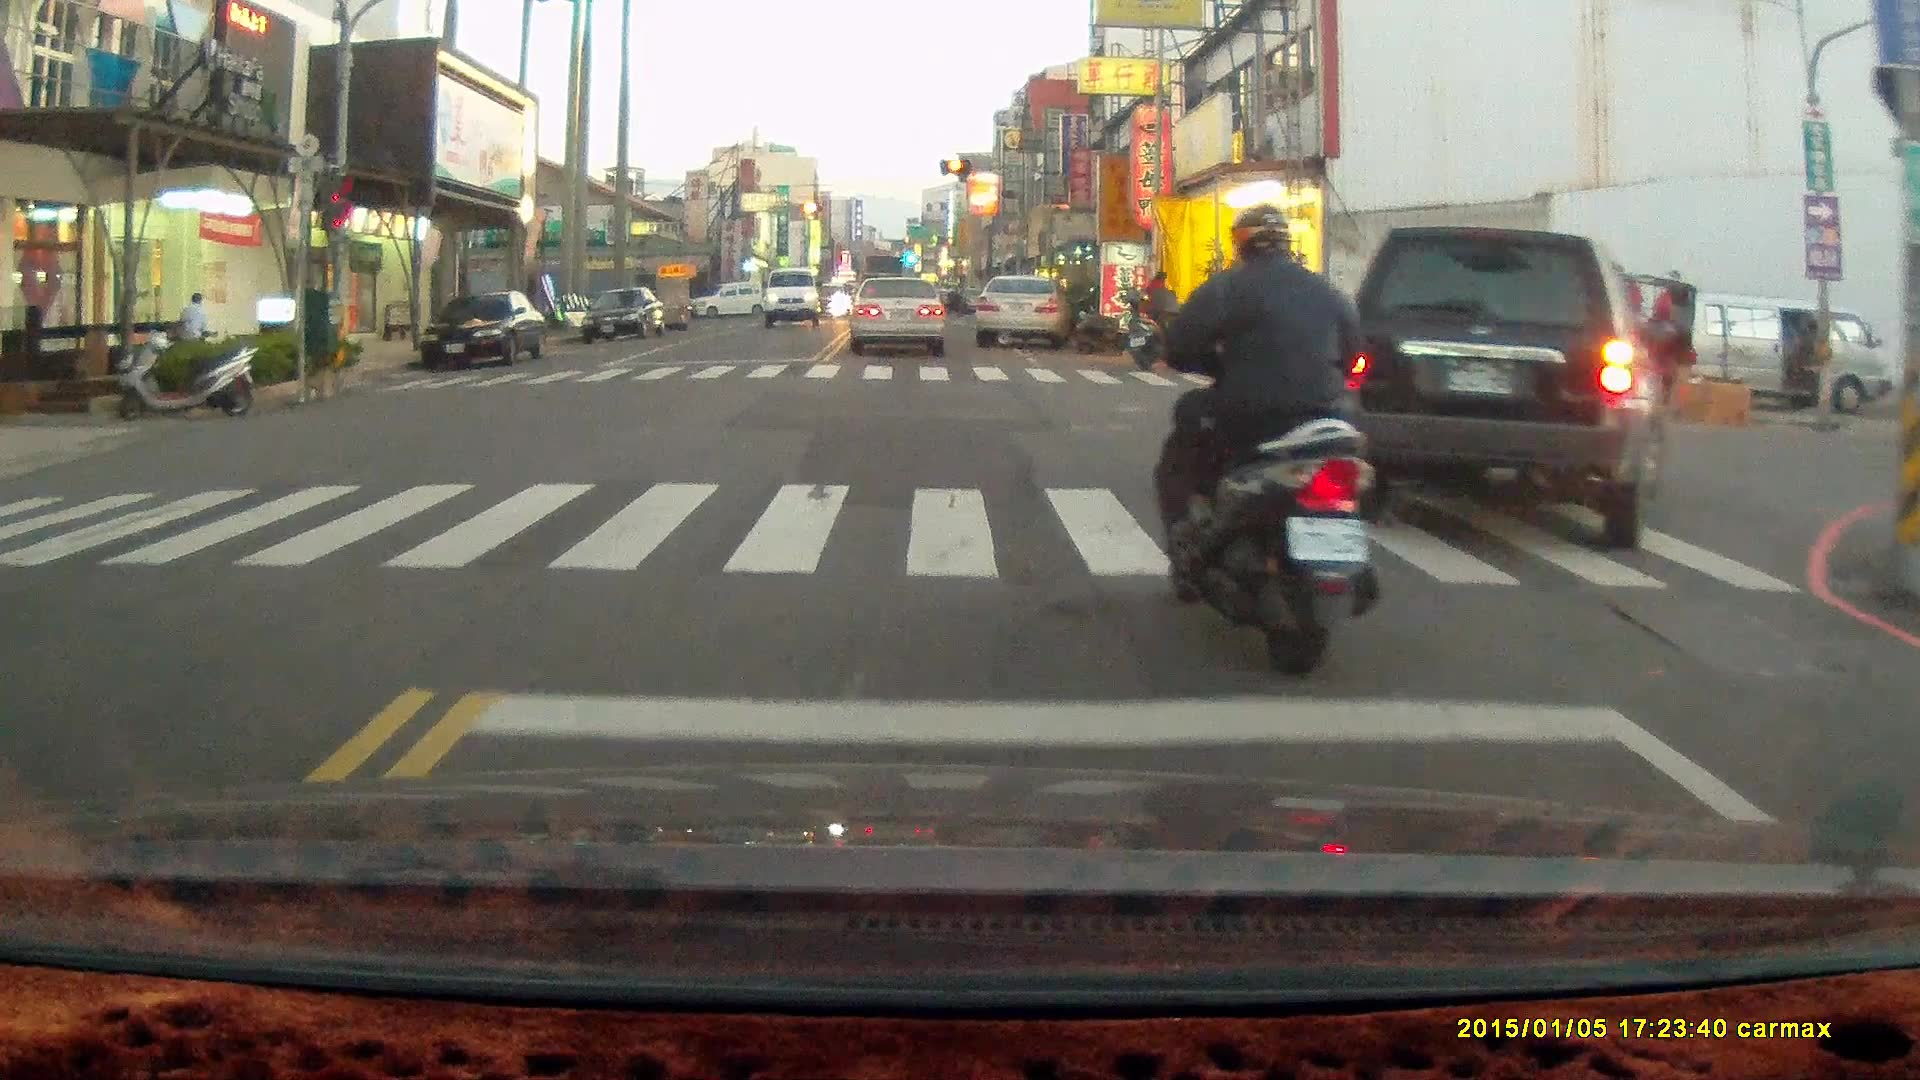pedestrian: (1139, 269, 1171, 359), (176, 291, 213, 357), (1798, 317, 1823, 408)
rider: (1152, 206, 1388, 688)
vehicle: (1338, 224, 1671, 543), (1632, 286, 1898, 416), (419, 288, 548, 372), (973, 263, 1073, 342), (850, 275, 950, 355), (582, 286, 669, 345), (765, 268, 825, 330)
